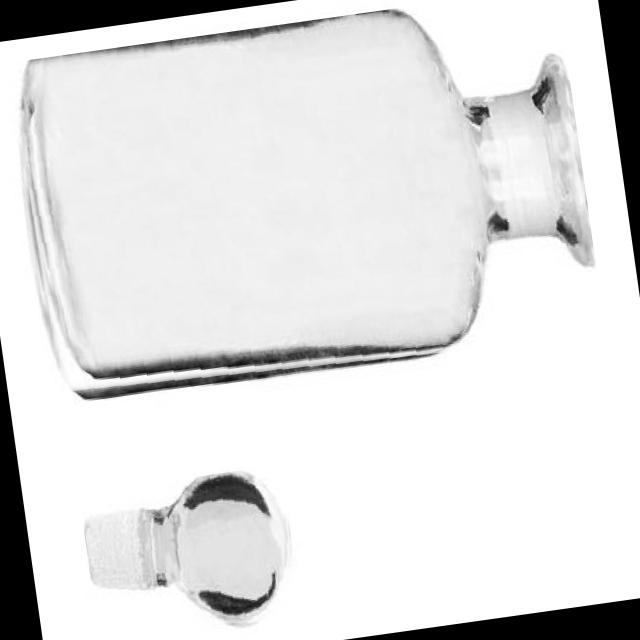Glass: (4, 0, 605, 414), (77, 465, 303, 640)
